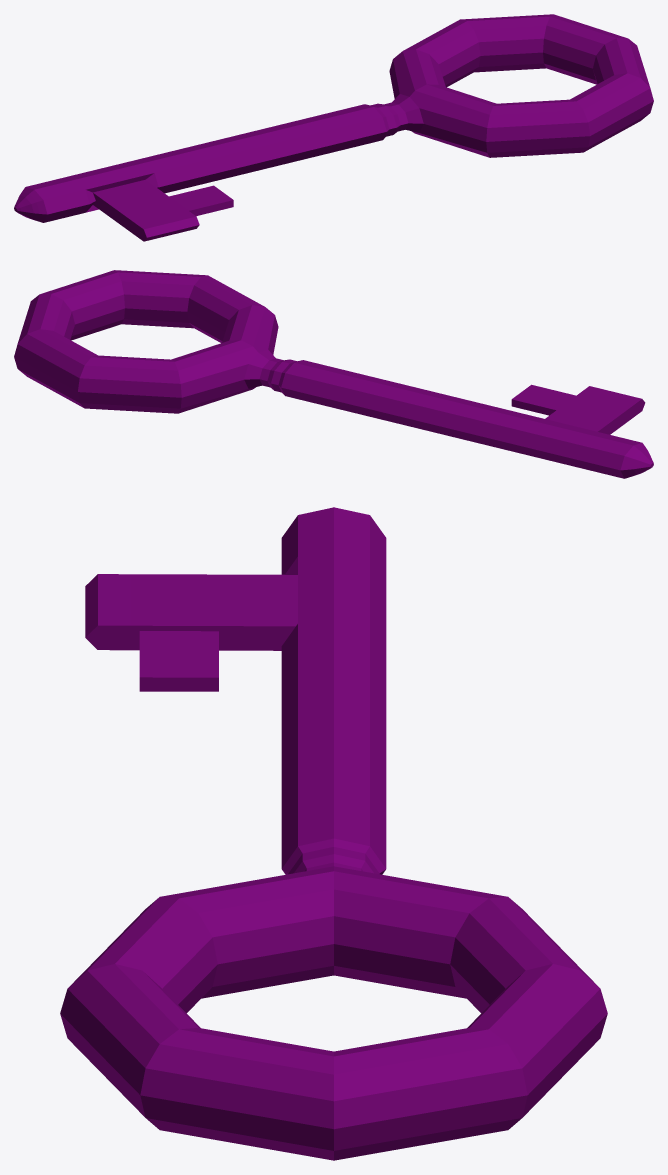
File: _owpoly_key.fbx
The picture shows the model from 3 angles, top to bottom: view 1: azimuth 30°, elevation 25°; view 2: azimuth 150°, elevation 25°; view 3: azimuth 270°, elevation 25°; orthographic projection. The views are drawn at different scales.
Parts seen in each view (by area): view 1: Torus.002; view 2: Torus.002; view 3: Torus.002.
Part boxes in pixels (bbox=[...]): Torus.002: bbox=[14, 14, 653, 241]; Torus.002: bbox=[14, 270, 653, 478]; Torus.002: bbox=[60, 507, 607, 1160].
Bounding box in the file's own units: 658 × 50 × 250.
